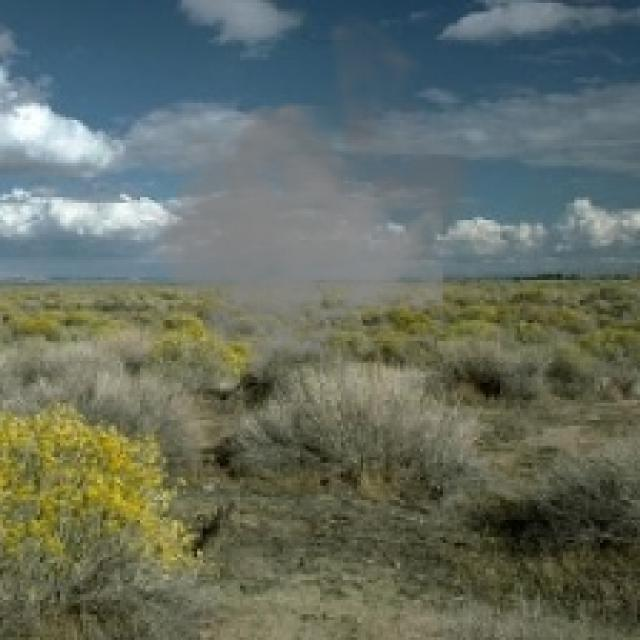smoke: (134, 9, 486, 368)
